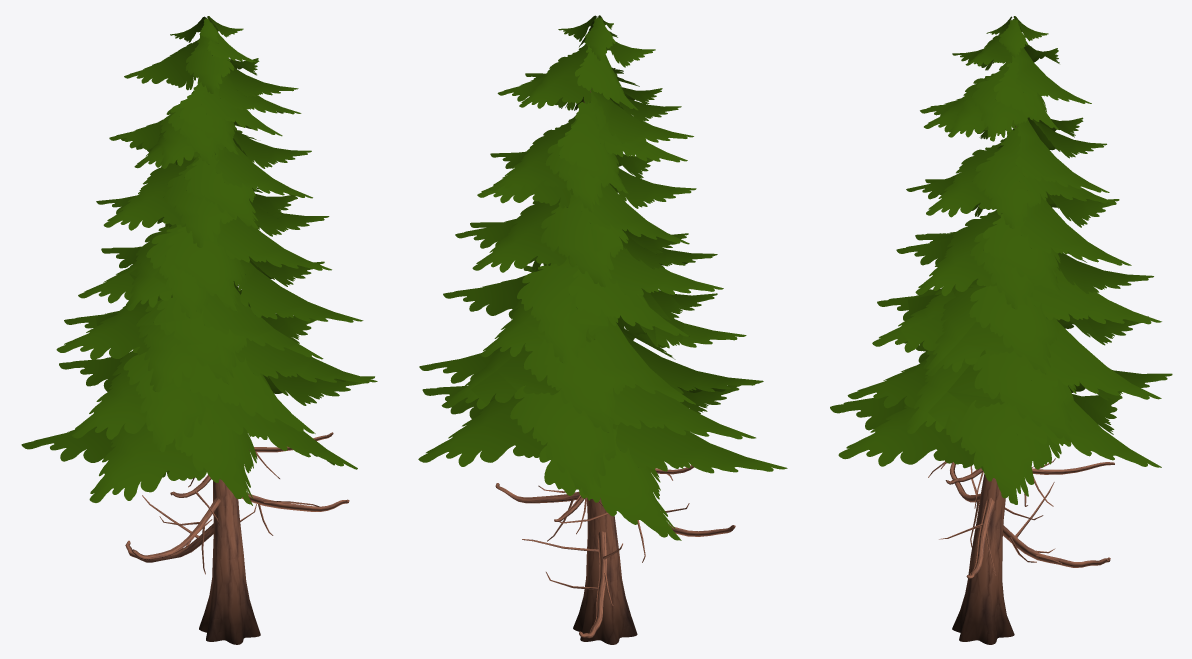
The model's file is Pine_4.glb.
3 views of the same model, side by side, from view 1: azimuth 30°, elevation 25°; view 2: azimuth 150°, elevation 25°; view 3: azimuth 270°, elevation 25° (orthographic). The views are drawn at different scales.
Visible parts, largest first — view 1: Pine_4; view 2: Pine_4; view 3: Pine_4.
Part boxes in pixels (left/top/right/bottom): Pine_4: left=21, top=16, right=377, bottom=644; Pine_4: left=418, top=15, right=787, bottom=644; Pine_4: left=830, top=16, right=1172, bottom=644.
Size of the model in its own units: 5.8 by 10.24 by 5.37.
2 materials, 2 textured.
